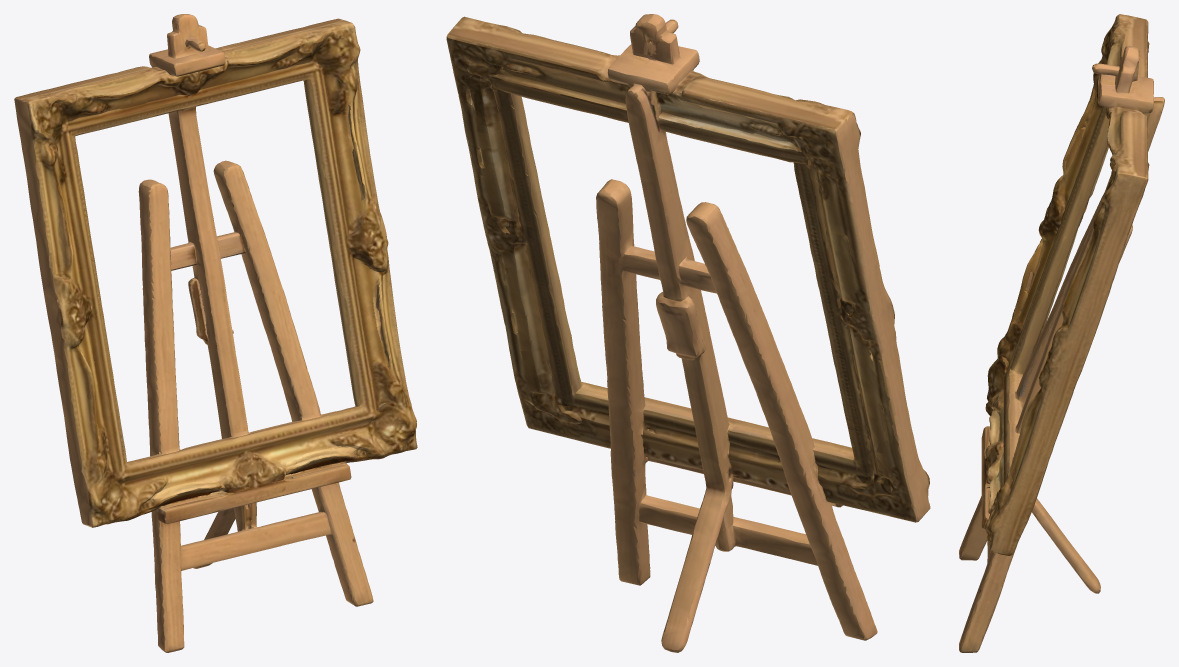
The model's file is aholo-20261119-photo-frame-booth.glb.
3 renders of one model, left to right at view 1: azimuth 30°, elevation 25°; view 2: azimuth 150°, elevation 25°; view 3: azimuth 270°, elevation 25°, orthographic. The views are drawn at different scales.
Parts seen in each view (by area): view 1: geometry_0; view 2: geometry_0; view 3: geometry_0.
Part boxes in pixels (x1=…): geometry_0: x1=14, y1=14, x2=417, y2=652; geometry_0: x1=446, y1=14, x2=930, y2=652; geometry_0: x1=959, y1=14, x2=1164, y2=652.
Size of the model in its own units: 0.9927 by 1.6 by 0.5382.
Materials: 1 (1 with a texture image).
